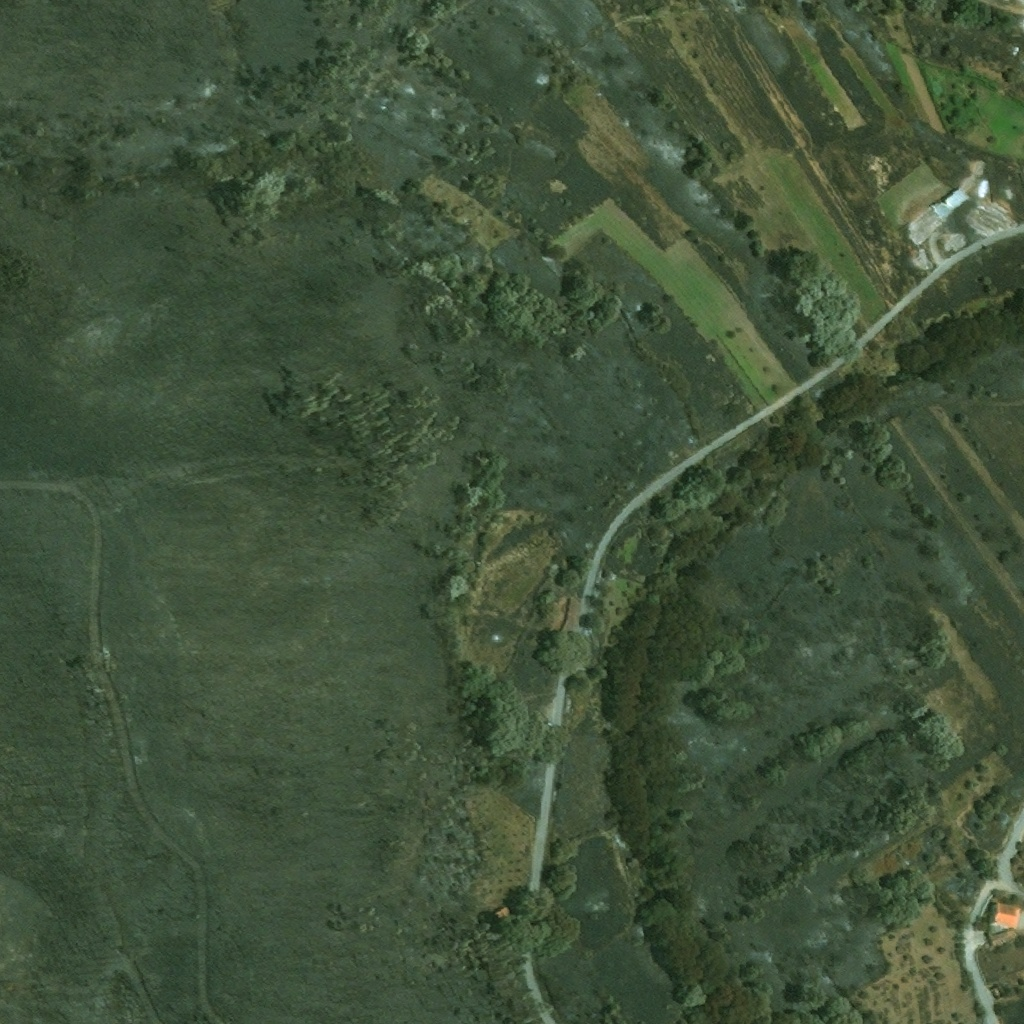0 no-damage: (932, 186, 969, 219), (990, 899, 1020, 927), (987, 927, 1017, 949), (561, 599, 578, 631), (990, 984, 1006, 1000), (493, 907, 508, 921)
